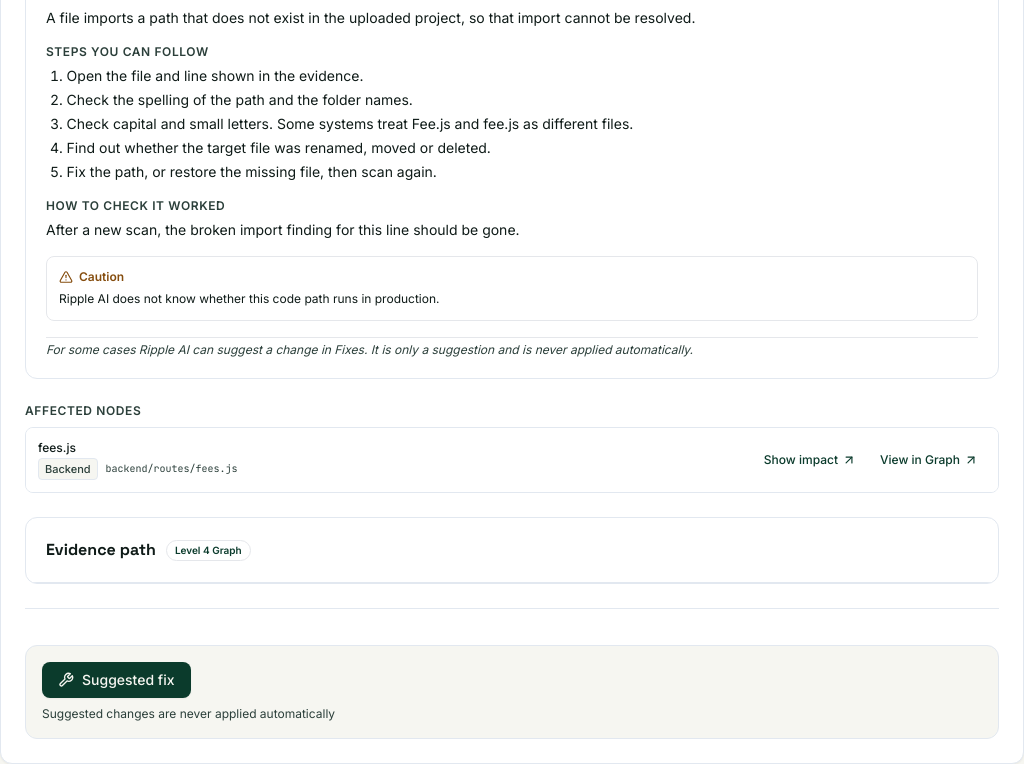
it: Mini Evidence Graph UI (Step 14 Part 2) › FindingDetail & MiniEvidenceGraph Component Integration › the Evidence path card is closed by default and fetches only after opening
The image size is (1024, 764).
(page scrolled)
Note: User opens the details card by clicking summary
Click the heading with test id "evidence-path-summary".
click(101, 550)  # box [26,518,998,583]
(page scrolled)
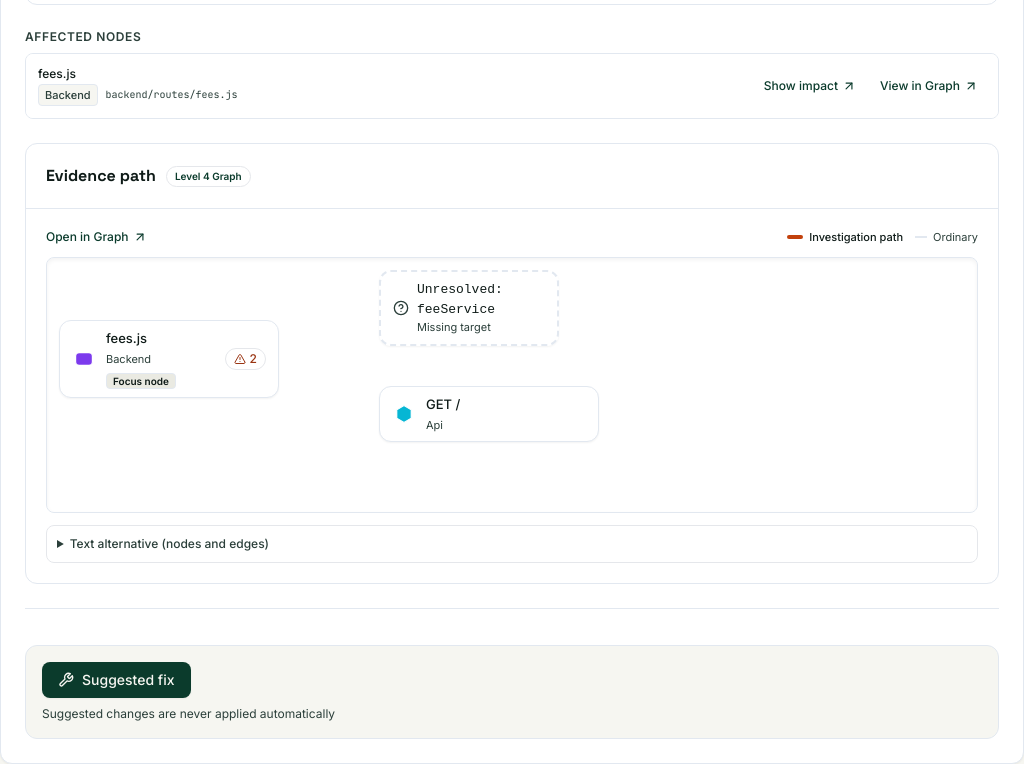
Now the element with test id "mini-graph-container" is shown, box [46,229,978,563]
